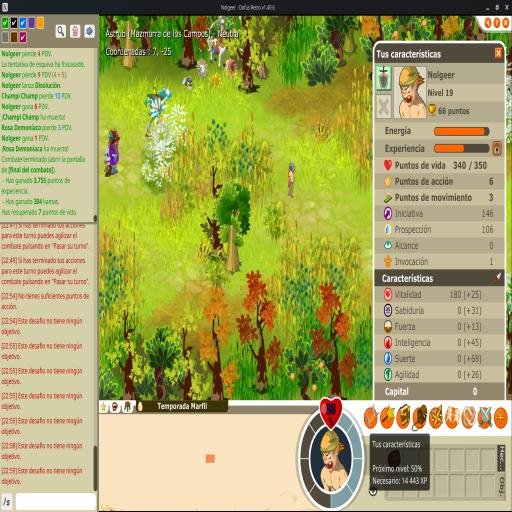Personaje: (287, 162, 296, 199)
